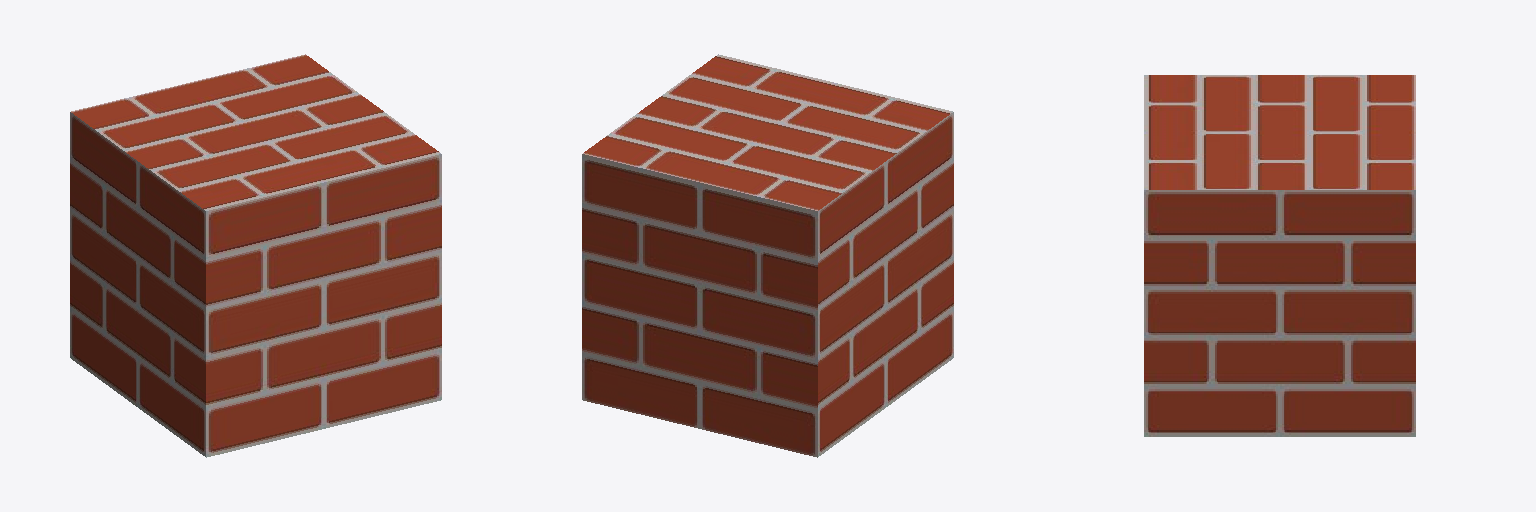
3 views of the same model, side by side, from view 1: azimuth 30°, elevation 25°; view 2: azimuth 150°, elevation 25°; view 3: azimuth 270°, elevation 25° (orthographic).
Visible parts, largest first — view 1: pCube1; view 2: pCube1; view 3: pCube1.
Part boxes in pixels (bbox=[...]): pCube1: bbox=[70, 54, 441, 457]; pCube1: bbox=[582, 54, 953, 457]; pCube1: bbox=[1144, 75, 1415, 436].
Size of the model in its own units: 1 by 1 by 1.
1 materials, 1 textured.